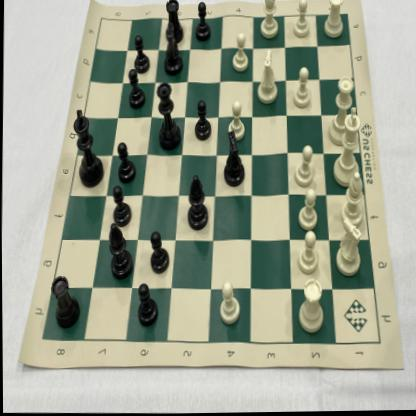black-bishop: (107, 218, 133, 280), (186, 174, 209, 231)
black-king: (70, 105, 105, 189)
black-knight: (221, 132, 249, 188), (162, 20, 186, 76)
black-pawn: (135, 282, 158, 331), (148, 230, 171, 273), (116, 139, 137, 185), (110, 184, 132, 227), (126, 68, 146, 110), (193, 99, 213, 141), (194, 1, 212, 45), (132, 34, 150, 74)
black-queen: (155, 80, 182, 150)
black-rook: (51, 271, 80, 328), (162, 0, 186, 45)
white-bishop: (339, 170, 366, 228), (258, 0, 280, 42)
white-king: (331, 106, 364, 188)
white-knight: (333, 218, 363, 279), (255, 48, 279, 107)
white-pawn: (295, 229, 319, 277), (217, 280, 241, 328), (292, 144, 317, 186), (230, 30, 251, 74), (291, 66, 312, 109), (298, 186, 318, 231), (227, 99, 246, 142), (291, 0, 311, 40)
white-queen: (326, 74, 356, 148)
white-rook: (298, 275, 326, 334), (322, 0, 348, 39)
